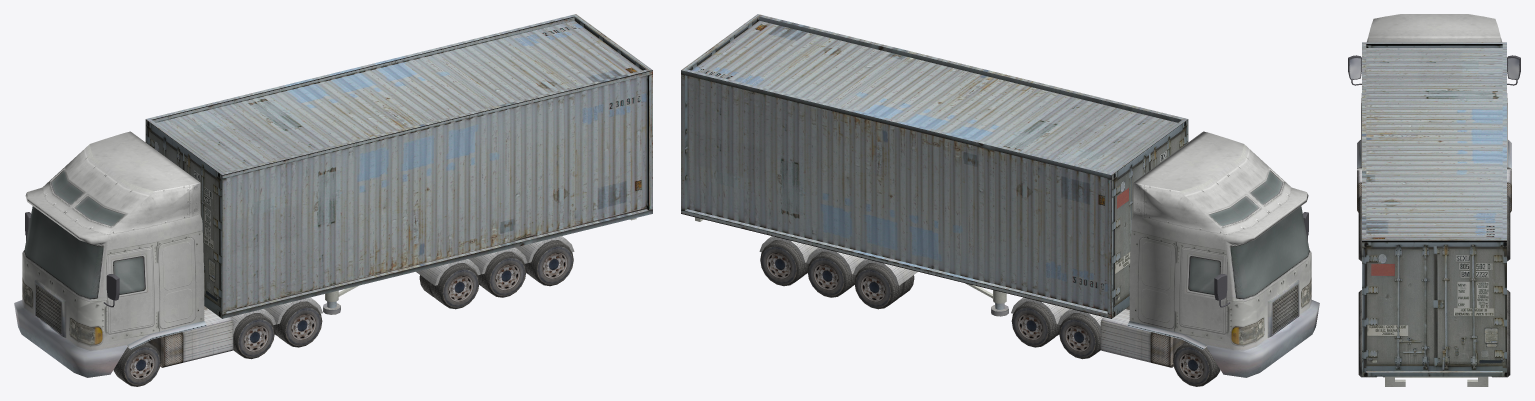
The model's file is cargo truck.FBX.
3 views of the same model, side by side, from view 1: azimuth 30°, elevation 25°; view 2: azimuth 150°, elevation 25°; view 3: azimuth 270°, elevation 25° (orthographic). The views are drawn at different scales.
Parts seen in each view (by area): view 1: cargo truck; view 2: cargo truck; view 3: cargo truck.
Part boxes in pixels (left/top/right/bottom): cargo truck: left=14, top=14, right=652, bottom=386; cargo truck: left=681, top=14, right=1319, bottom=386; cargo truck: left=1348, top=14, right=1520, bottom=386.
Bounding box in the file's own units: 1606 × 513 × 446.
